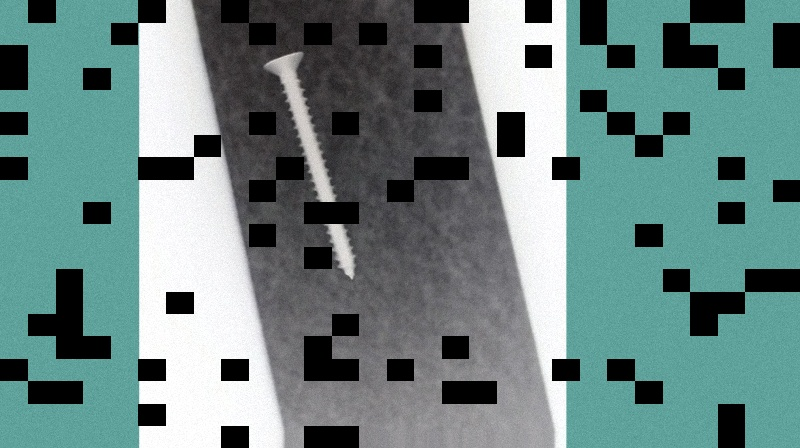S002: (261, 47, 357, 283)
